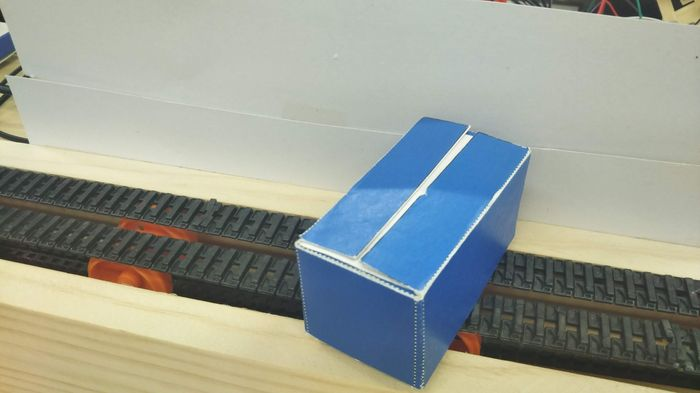box3: (293, 111, 532, 388)
